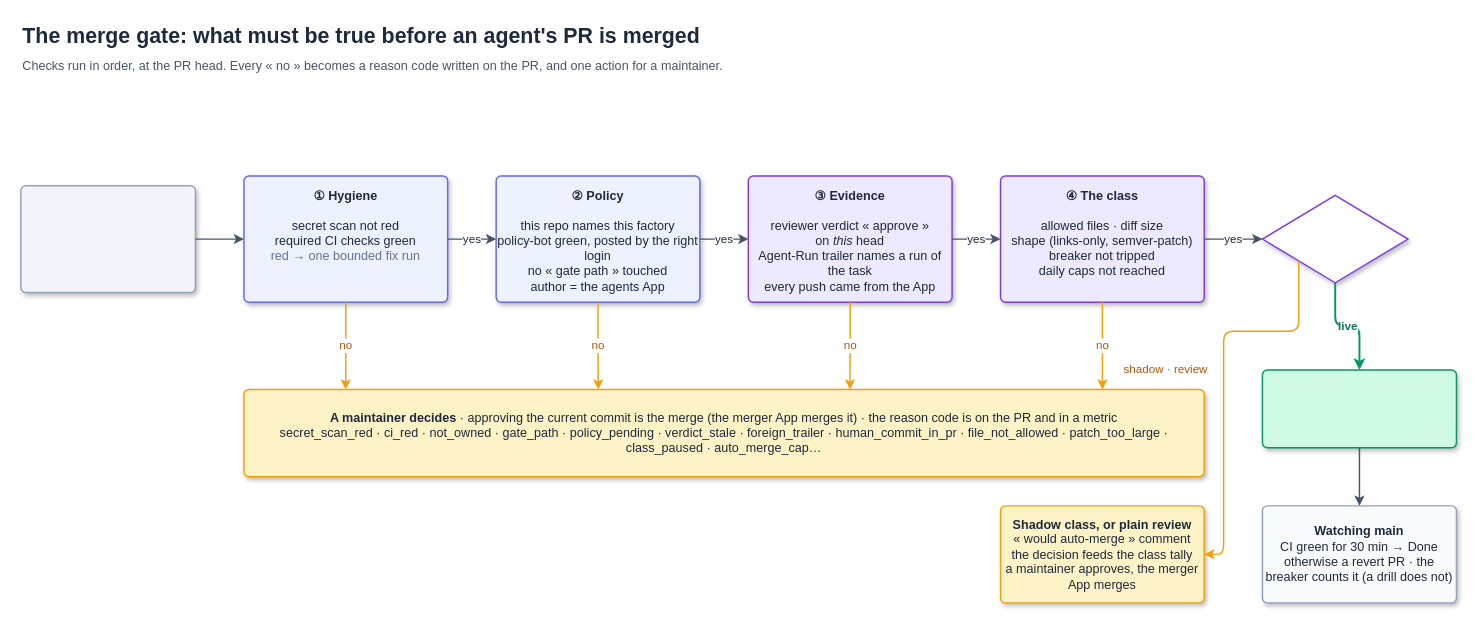
Image size: 1480x627. Some labels were removed from this diagram. The shapes that lost their labels are listed below. From the top down, each one's centre as x and y in pixels, then its label:
[109,240]: An agent's PR branch agent/<task> author: the ogenki-agents App
[1335,240]: Class live ?
[1360,410]: Merge by the merger App squash, at the decided head the only App holding the key
